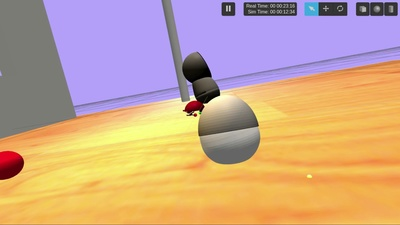mira_robot: (198, 95, 261, 165)
